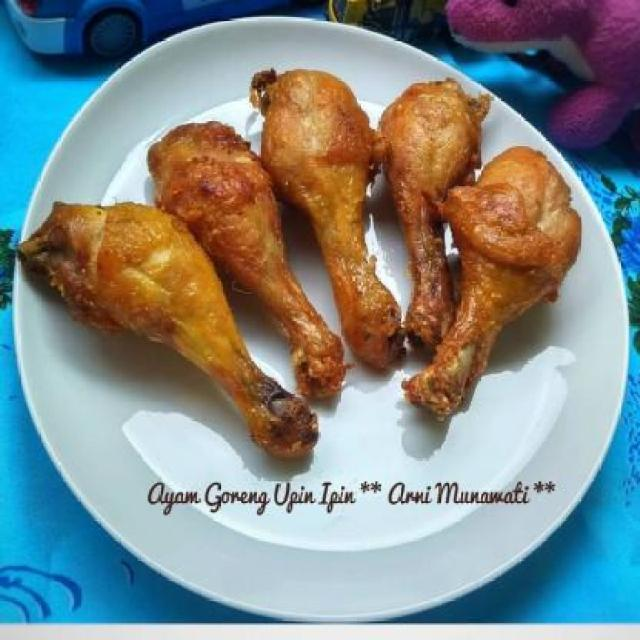Wet Waste: (24, 196, 318, 462), (148, 120, 349, 398), (403, 146, 579, 432), (251, 63, 400, 380), (389, 74, 491, 348)
